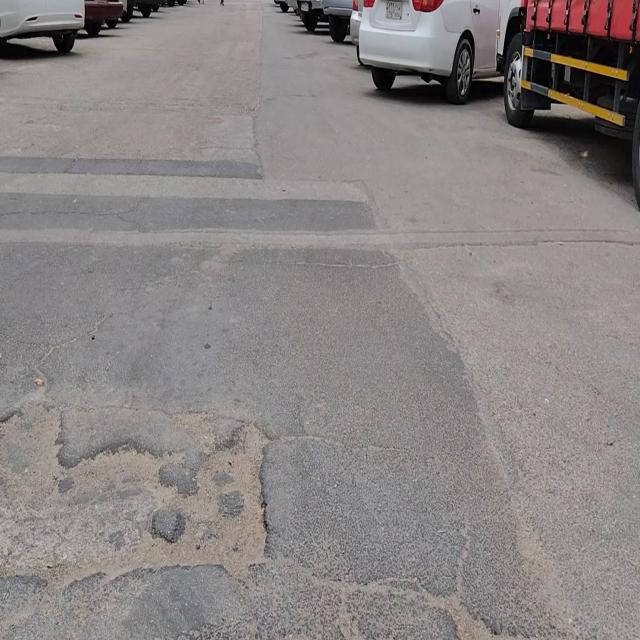Potholes: (45, 440, 186, 587), (156, 413, 273, 588)
